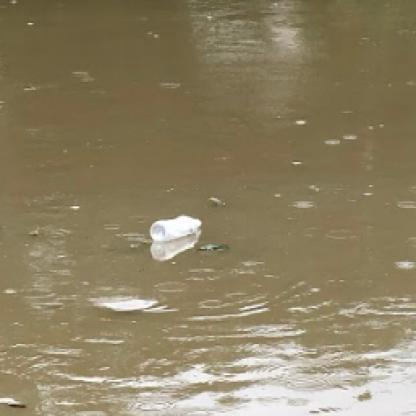plastic bottle: (150, 214, 203, 238)
